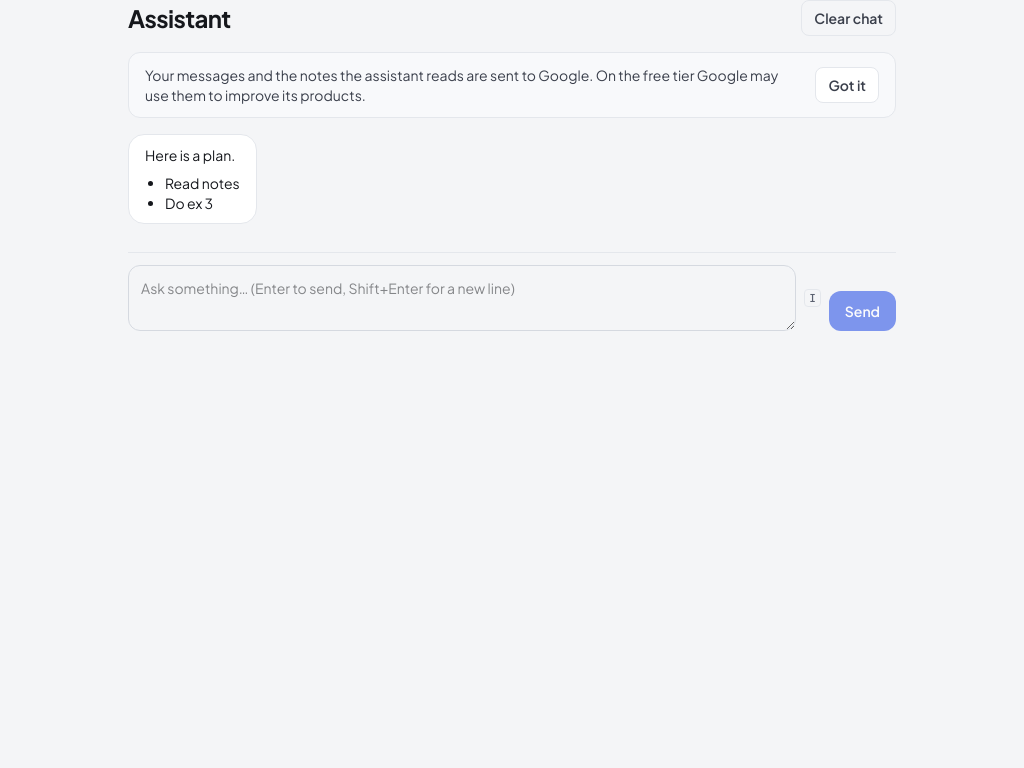
Test: AssistantPage › streaming › Clear chat also clears a stopped bubble
Type "hi" into the text box named "Message the assistant". click: (462, 298)
box: [128, 265, 796, 331]
Then press Enter
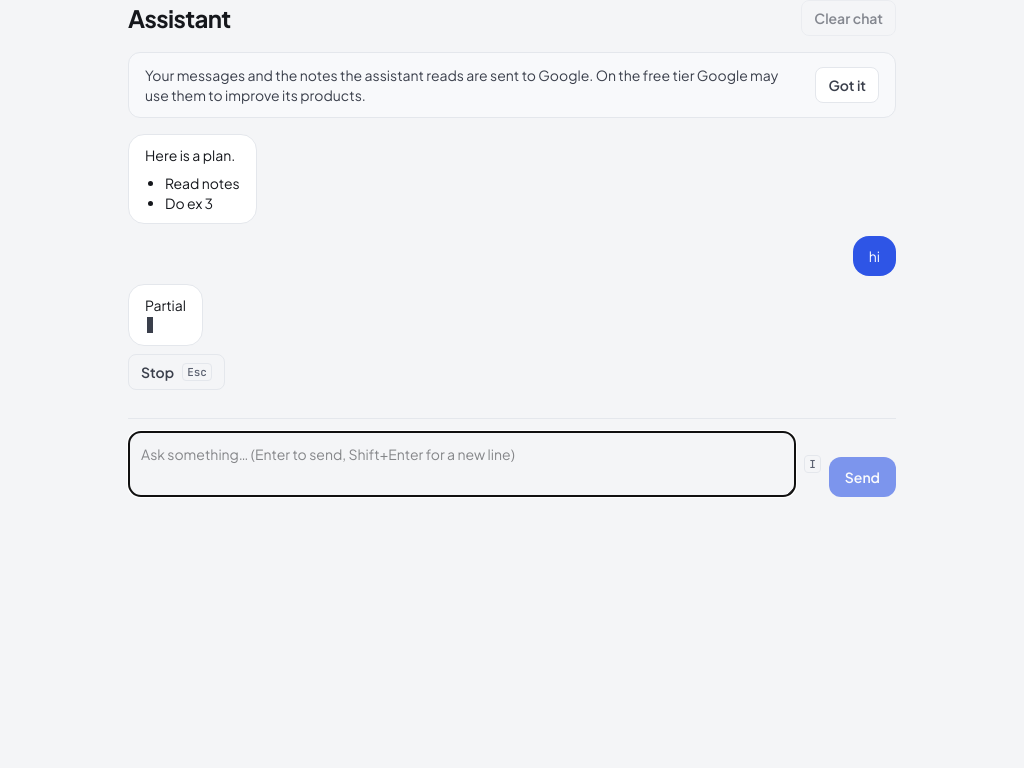
Now the text "Partial" is shown, box [145, 295, 186, 315]
Click the button "Stop Esc". click: (176, 372)
box: [128, 354, 225, 390]
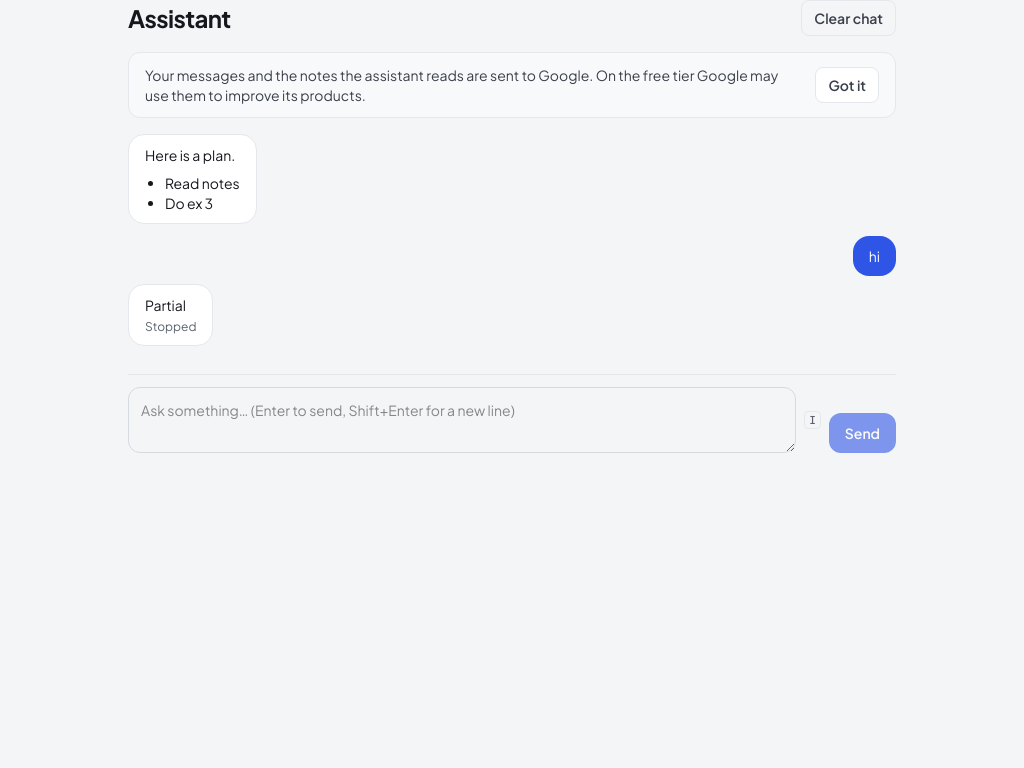
Now the text "Stopped" is shown, box [145, 319, 196, 335]
Click the button "Clear chat". click: (849, 18)
box: [801, 0, 896, 36]
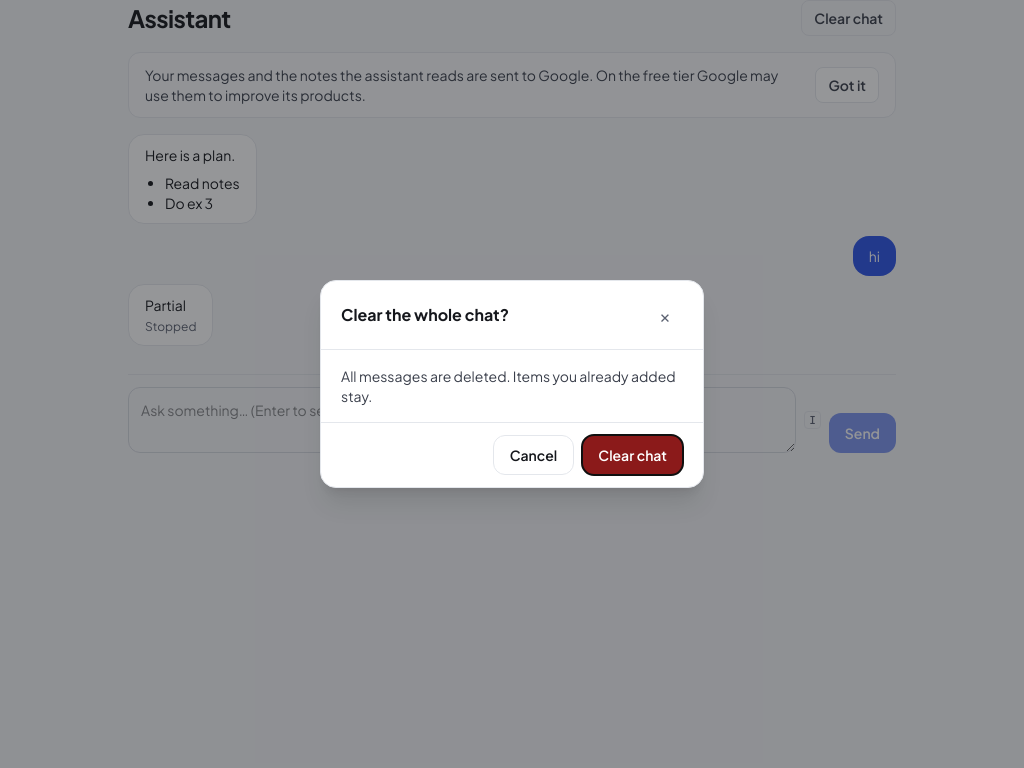
Click the button "Clear chat". click: (633, 455)
box: [582, 435, 683, 475]
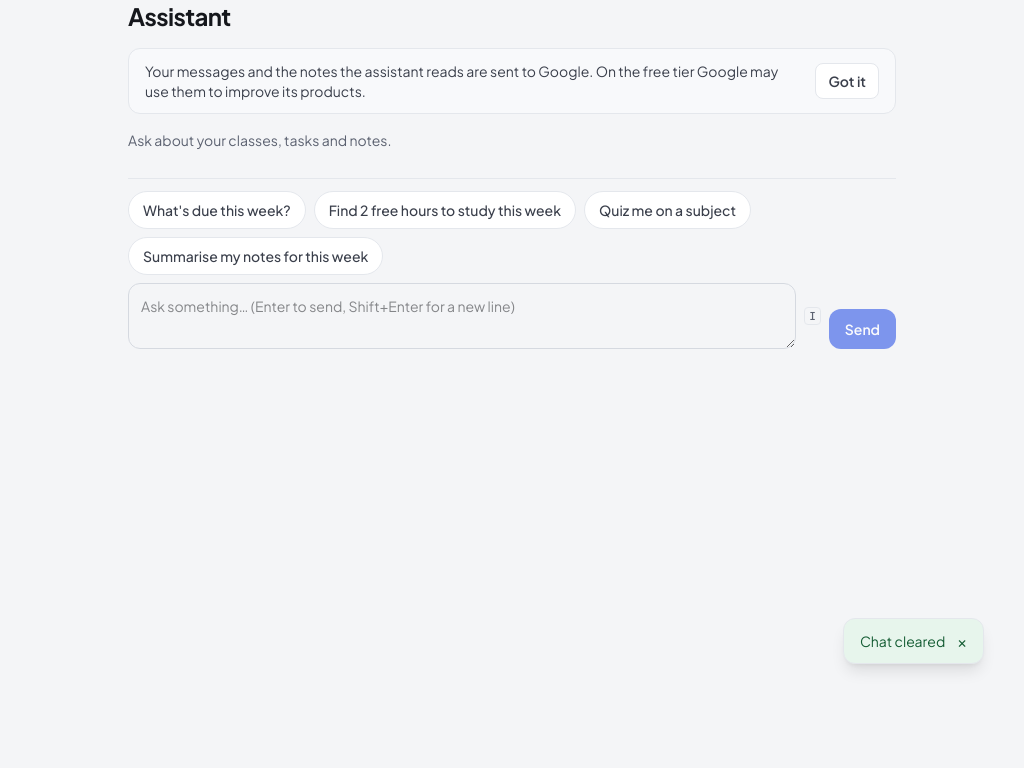
Now the text "Partial" is gone
